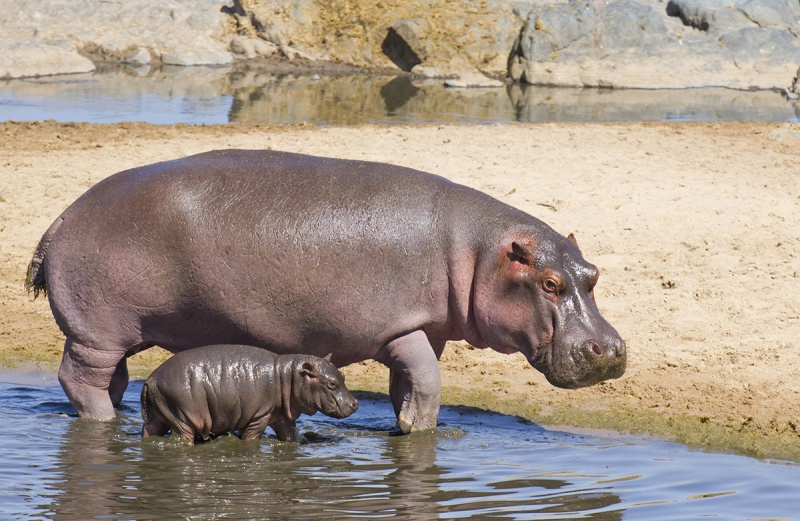hipopotamo: (19, 145, 631, 440), (136, 342, 360, 448)
